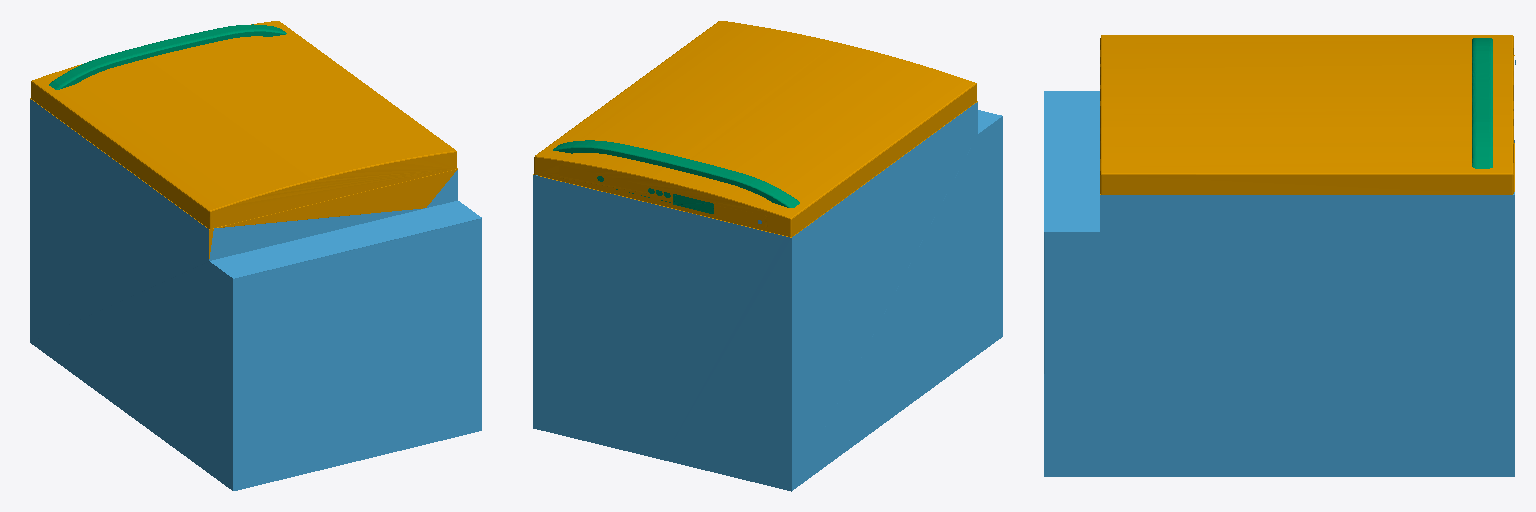
robot.urdf — articulated_object:
<?xml version="1.0" ?>
<robot name="articulated_object">
  <!-- Auto-generated from object.json -->
  <!-- Conversion script: convert_object_json_to_urdf.py -->
  <!-- Formula: mesh_origin = -joint_origin (for main parts) -->
  <!--          mesh_origin = -parent_joint_origin (for fixed children) -->
  <link name="door">
    <visual>
      <origin xyz="-0.508704 0.531910 -0.449530" rpy="0 0 0"/>
      <geometry>
        <mesh filename="objs/new-2.obj"/>
      </geometry>
    </visual>
    <collision>
      <origin xyz="-0.508704 0.531910 -0.449530" rpy="0 0 0"/>
      <geometry>
        <mesh filename="objs/new-2.obj"/>
      </geometry>
    </collision>
    <visual>
      <origin xyz="-0.508704 0.531910 -0.449530" rpy="0 0 0"/>
      <geometry>
        <mesh filename="objs/original-16.obj"/>
      </geometry>
    </visual>
    <collision>
      <origin xyz="-0.508704 0.531910 -0.449530" rpy="0 0 0"/>
      <geometry>
        <mesh filename="objs/original-16.obj"/>
      </geometry>
    </collision>
    <inertial>
      <origin xyz="-0.508704 0.531910 -0.449530" rpy="0 0 0"/>
      <mass value="2.0"/>
      <inertia ixx="0.02" ixy="0" ixz="0" iyy="0.02" iyz="0" izz="0.02"/>
    </inertial>
  </link>
  <joint name="joint_door" type="revolute">
    <parent link="base"/>
    <child link="door"/>
    <origin xyz="0.508704 -0.531910 0.449530" rpy="0 0 0"/>
    <axis xyz="1 0 0"/>
    <limit lower="0.000000" upper="1.570796" effort="10" velocity="1"/>
  </joint>
  <link name="base">
    <visual>
      <origin xyz="0.000000 0.000000 0.000000" rpy="0 0 0"/>
      <geometry>
        <mesh filename="objs/new-0.obj"/>
      </geometry>
    </visual>
    <collision>
      <origin xyz="0.000000 0.000000 0.000000" rpy="0 0 0"/>
      <geometry>
        <mesh filename="objs/new-0.obj"/>
      </geometry>
    </collision>
    <visual>
      <origin xyz="0.000000 0.000000 0.000000" rpy="0 0 0"/>
      <geometry>
        <mesh filename="objs/new-3.obj"/>
      </geometry>
    </visual>
    <collision>
      <origin xyz="0.000000 0.000000 0.000000" rpy="0 0 0"/>
      <geometry>
        <mesh filename="objs/new-3.obj"/>
      </geometry>
    </collision>
    <visual>
      <origin xyz="0.000000 0.000000 0.000000" rpy="0 0 0"/>
      <geometry>
        <mesh filename="objs/original-3.obj"/>
      </geometry>
    </visual>
    <collision>
      <origin xyz="0.000000 0.000000 0.000000" rpy="0 0 0"/>
      <geometry>
        <mesh filename="objs/original-3.obj"/>
      </geometry>
    </collision>
    <inertial>
      <origin xyz="0.000000 0.000000 0.000000" rpy="0 0 0"/>
      <mass value="0.1"/>
      <inertia ixx="0.001" ixy="0" ixz="0" iyy="0.001" iyz="0" izz="0.001"/>
    </inertial>
  </link>
  <link name="base_link">
    <visual>
      <origin xyz="-0.508704 0.531910 -0.449530" rpy="0 0 0"/>
      <geometry>
        <mesh filename="objs/original-9.obj"/>
      </geometry>
    </visual>
    <collision>
      <origin xyz="-0.508704 0.531910 -0.449530" rpy="0 0 0"/>
      <geometry>
        <mesh filename="objs/original-9.obj"/>
      </geometry>
    </collision>
    <visual>
      <origin xyz="-0.508704 0.531910 -0.449530" rpy="0 0 0"/>
      <geometry>
        <mesh filename="objs/original-17.obj"/>
      </geometry>
    </visual>
    <collision>
      <origin xyz="-0.508704 0.531910 -0.449530" rpy="0 0 0"/>
      <geometry>
        <mesh filename="objs/original-17.obj"/>
      </geometry>
    </collision>
    <visual>
      <origin xyz="-0.508704 0.531910 -0.449530" rpy="0 0 0"/>
      <geometry>
        <mesh filename="objs/original-14.obj"/>
      </geometry>
    </visual>
    <collision>
      <origin xyz="-0.508704 0.531910 -0.449530" rpy="0 0 0"/>
      <geometry>
        <mesh filename="objs/original-14.obj"/>
      </geometry>
    </collision>
    <visual>
      <origin xyz="-0.508704 0.531910 -0.449530" rpy="0 0 0"/>
      <geometry>
        <mesh filename="objs/original-15.obj"/>
      </geometry>
    </visual>
    <collision>
      <origin xyz="-0.508704 0.531910 -0.449530" rpy="0 0 0"/>
      <geometry>
        <mesh filename="objs/original-15.obj"/>
      </geometry>
    </collision>
    <visual>
      <origin xyz="-0.508704 0.531910 -0.449530" rpy="0 0 0"/>
      <geometry>
        <mesh filename="objs/original-8.obj"/>
      </geometry>
    </visual>
    <collision>
      <origin xyz="-0.508704 0.531910 -0.449530" rpy="0 0 0"/>
      <geometry>
        <mesh filename="objs/original-8.obj"/>
      </geometry>
    </collision>
    <visual>
      <origin xyz="-0.508704 0.531910 -0.449530" rpy="0 0 0"/>
      <geometry>
        <mesh filename="objs/original-7.obj"/>
      </geometry>
    </visual>
    <collision>
      <origin xyz="-0.508704 0.531910 -0.449530" rpy="0 0 0"/>
      <geometry>
        <mesh filename="objs/original-7.obj"/>
      </geometry>
    </collision>
    <visual>
      <origin xyz="-0.508704 0.531910 -0.449530" rpy="0 0 0"/>
      <geometry>
        <mesh filename="objs/original-6.obj"/>
      </geometry>
    </visual>
    <collision>
      <origin xyz="-0.508704 0.531910 -0.449530" rpy="0 0 0"/>
      <geometry>
        <mesh filename="objs/original-6.obj"/>
      </geometry>
    </collision>
    <visual>
      <origin xyz="-0.508704 0.531910 -0.449530" rpy="0 0 0"/>
      <geometry>
        <mesh filename="objs/original-5.obj"/>
      </geometry>
    </visual>
    <collision>
      <origin xyz="-0.508704 0.531910 -0.449530" rpy="0 0 0"/>
      <geometry>
        <mesh filename="objs/original-5.obj"/>
      </geometry>
    </collision>
    <visual>
      <origin xyz="-0.508704 0.531910 -0.449530" rpy="0 0 0"/>
      <geometry>
        <mesh filename="objs/original-1.obj"/>
      </geometry>
    </visual>
    <collision>
      <origin xyz="-0.508704 0.531910 -0.449530" rpy="0 0 0"/>
      <geometry>
        <mesh filename="objs/original-1.obj"/>
      </geometry>
    </collision>
    <visual>
      <origin xyz="-0.508704 0.531910 -0.449530" rpy="0 0 0"/>
      <geometry>
        <mesh filename="objs/original-18.obj"/>
      </geometry>
    </visual>
    <collision>
      <origin xyz="-0.508704 0.531910 -0.449530" rpy="0 0 0"/>
      <geometry>
        <mesh filename="objs/original-18.obj"/>
      </geometry>
    </collision>
    <visual>
      <origin xyz="-0.508704 0.531910 -0.449530" rpy="0 0 0"/>
      <geometry>
        <mesh filename="objs/original-10.obj"/>
      </geometry>
    </visual>
    <collision>
      <origin xyz="-0.508704 0.531910 -0.449530" rpy="0 0 0"/>
      <geometry>
        <mesh filename="objs/original-10.obj"/>
      </geometry>
    </collision>
    <visual>
      <origin xyz="-0.508704 0.531910 -0.449530" rpy="0 0 0"/>
      <geometry>
        <mesh filename="objs/original-13.obj"/>
      </geometry>
    </visual>
    <collision>
      <origin xyz="-0.508704 0.531910 -0.449530" rpy="0 0 0"/>
      <geometry>
        <mesh filename="objs/original-13.obj"/>
      </geometry>
    </collision>
    <visual>
      <origin xyz="-0.508704 0.531910 -0.449530" rpy="0 0 0"/>
      <geometry>
        <mesh filename="objs/original-12.obj"/>
      </geometry>
    </visual>
    <collision>
      <origin xyz="-0.508704 0.531910 -0.449530" rpy="0 0 0"/>
      <geometry>
        <mesh filename="objs/original-12.obj"/>
      </geometry>
    </collision>
    <visual>
      <origin xyz="-0.508704 0.531910 -0.449530" rpy="0 0 0"/>
      <geometry>
        <mesh filename="objs/original-11.obj"/>
      </geometry>
    </visual>
    <collision>
      <origin xyz="-0.508704 0.531910 -0.449530" rpy="0 0 0"/>
      <geometry>
        <mesh filename="objs/original-11.obj"/>
      </geometry>
    </collision>
    <inertial>
      <origin xyz="-0.508704 0.531910 -0.449530" rpy="0 0 0"/>
      <mass value="10.0"/>
      <inertia ixx="0.1" ixy="0" ixz="0" iyy="0.1" iyz="0" izz="0.1"/>
    </inertial>
  </link>
  <joint name="joint_base_link" type="fixed">
    <parent link="door"/>
    <child link="base_link"/>
    <origin xyz="0 0 0" rpy="0 0 0"/>
  </joint>
</robot>

--- Facts derived from the render (not from the file) ---
Views: 3 orthographic renders of the robot side by side, from view 1: azimuth 30°, elevation 25°; view 2: azimuth 150°, elevation 25°; view 3: azimuth 270°, elevation 25°.
Model articulated_object with 3 links and 2 joints (1 revolute, 1 fixed), rooted at base, posed every joint at zero.
Links seen in each view (by area): view 1: base, door, base_link; view 2: base, door, base_link; view 3: base, door, base_link.
Boxes of the visible links, left/top/right/bottom form: base: left=30, top=99, right=481, bottom=490; door: left=30, top=21, right=457, bottom=258; base_link: left=49, top=24, right=286, bottom=89; base: left=533, top=102, right=1002, bottom=491; door: left=533, top=21, right=977, bottom=237; base_link: left=553, top=140, right=799, bottom=213; base: left=1044, top=60, right=1515, bottom=476; door: left=1100, top=35, right=1514, bottom=194; base_link: left=1472, top=38, right=1492, bottom=168.
Size in the robot's own frame: 1.05 by 1.49 by 1.12 metres.
Meshes: 19 distinct files referenced, 19 mesh visuals loaded (19 OBJ).